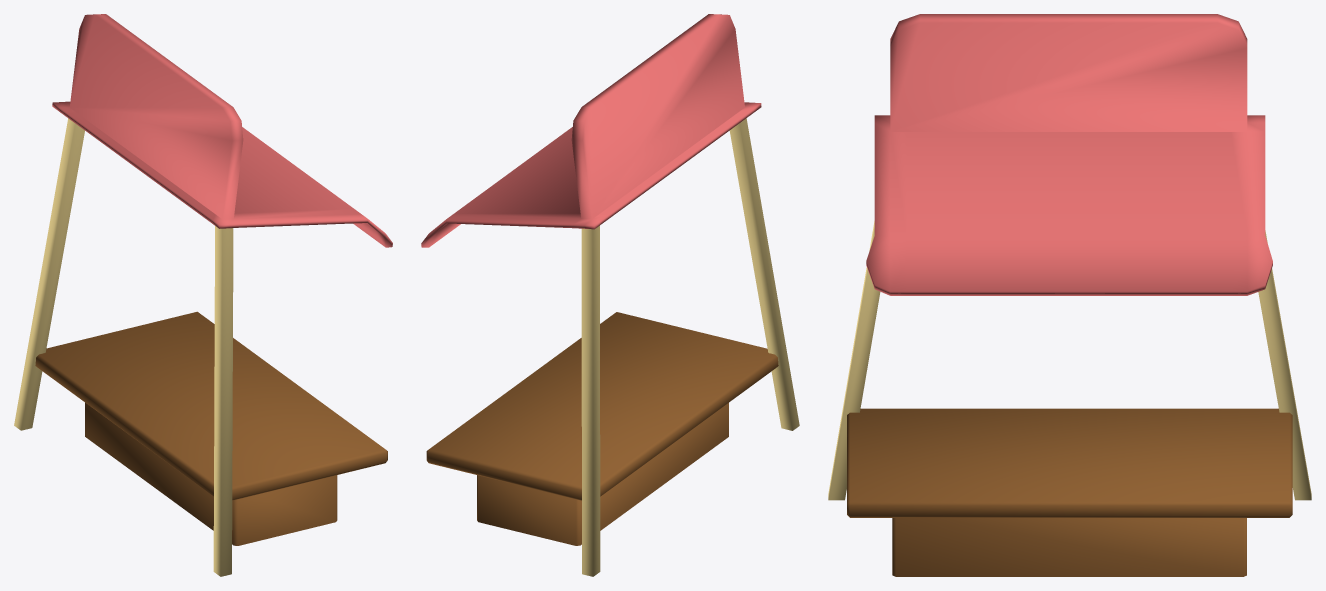
Rendered from Stand.fbx.
3 renders of one model, left to right at view 1: azimuth 30°, elevation 25°; view 2: azimuth 150°, elevation 25°; view 3: azimuth 270°, elevation 25°, orthographic. The views are drawn at different scales.
Visible parts, largest first — view 1: Stand_LOD0; view 2: Stand_LOD0; view 3: Stand_LOD0.
Part boxes in pixels (bbox=[...]): Stand_LOD0: bbox=[14, 14, 392, 576]; Stand_LOD0: bbox=[421, 14, 799, 576]; Stand_LOD0: bbox=[828, 14, 1311, 576].
Size of the model in its own units: 506 by 1084 by 943.
